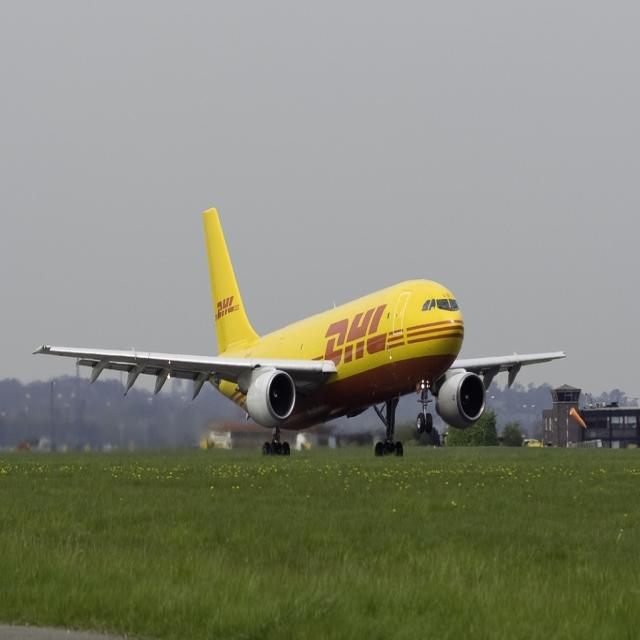dhl: (323, 300, 409, 371), (213, 293, 243, 324)
